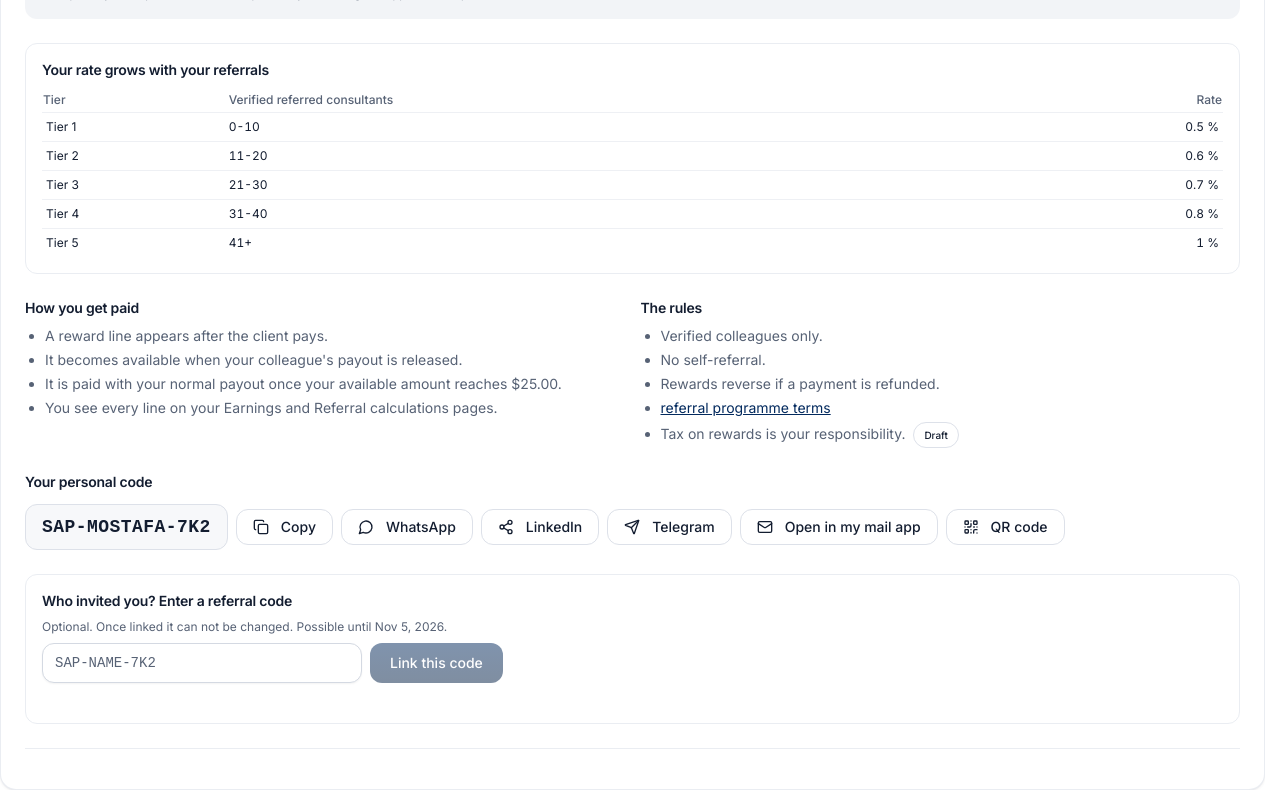
Refer & earn onboarding step › asks for the AI interview before sharing (activation rule), not at registration
(page scrolled)
Click the button "WhatsApp": coordinates (407, 526) [341,508,473,544]
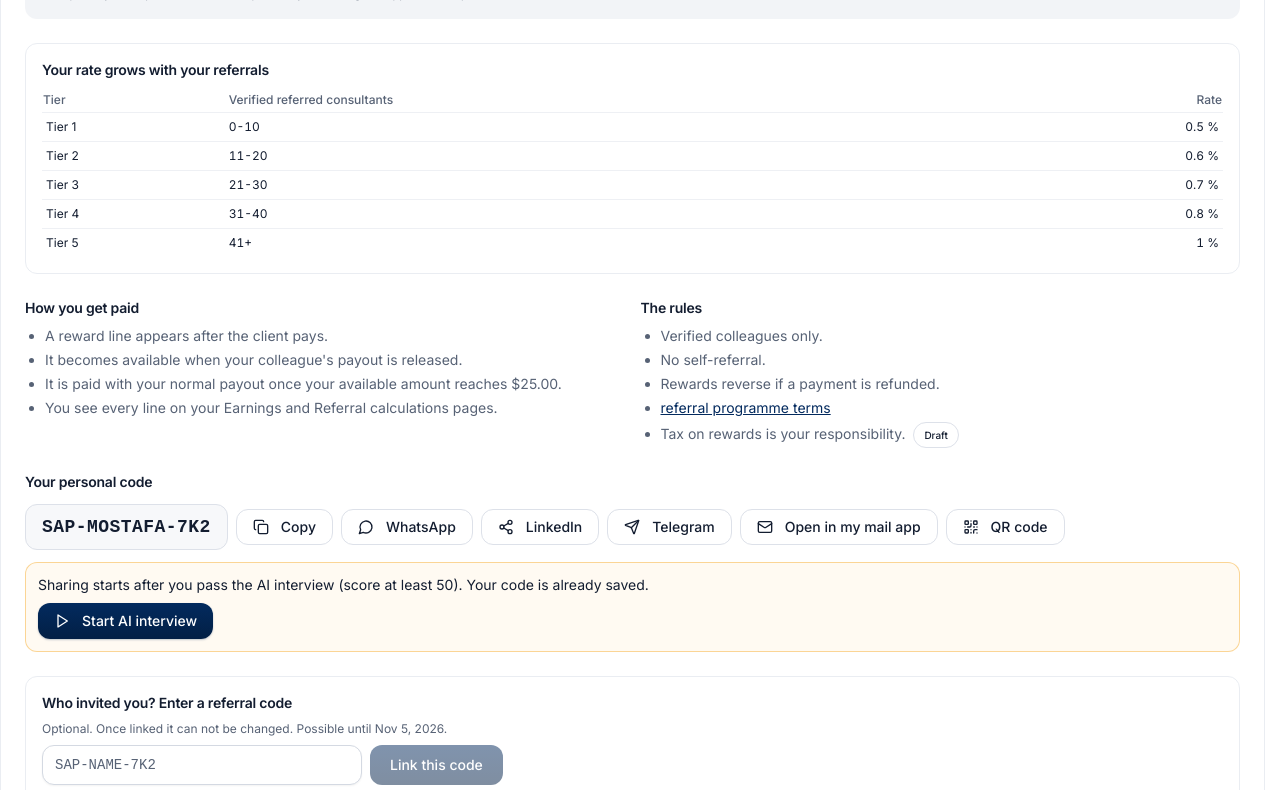
Check: the text "Sharing starts after you pass the AI interview" is shown, box [38,576,649,592]
